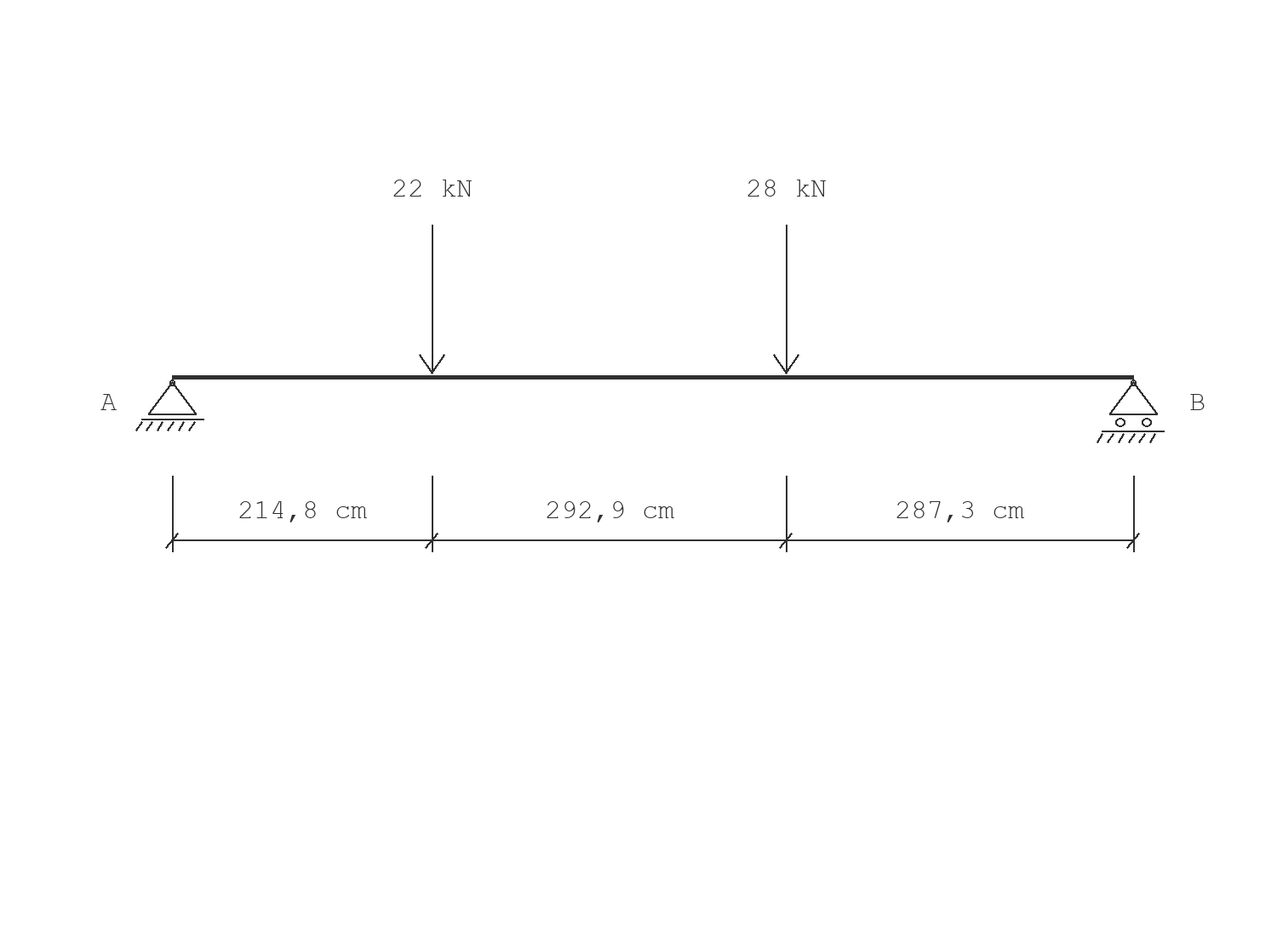pin_support: (135, 380, 204, 431)
point_load: (419, 225, 445, 374), (773, 225, 799, 374)
roller_support: (1097, 380, 1165, 443)
